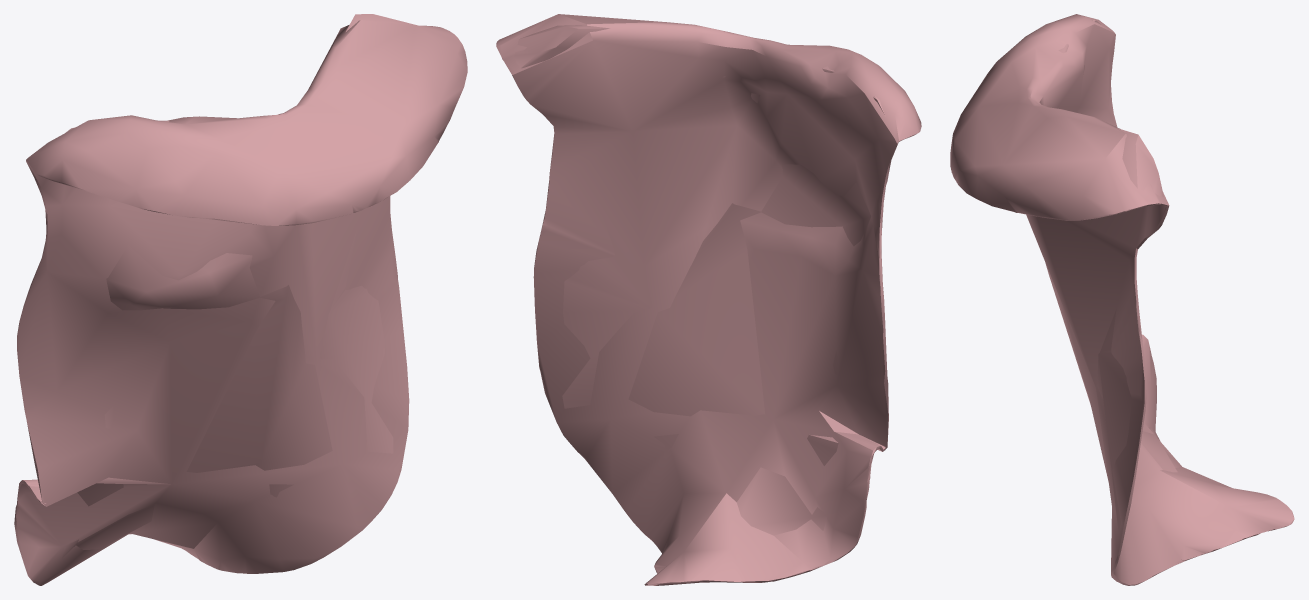
The model's file is fma14647_fj3398.glb.
3 renders of one model, left to right at view 1: azimuth 30°, elevation 25°; view 2: azimuth 150°, elevation 25°; view 3: azimuth 270°, elevation 25°, orthographic. The views are drawn at different scales.
Visible parts, largest first — view 1: FMA14647_FJ3398; view 2: FMA14647_FJ3398; view 3: FMA14647_FJ3398.
Part boxes in pixels (left/top/right/bottom): FMA14647_FJ3398: left=14, top=14, right=467, bottom=585; FMA14647_FJ3398: left=496, top=14, right=921, bottom=585; FMA14647_FJ3398: left=950, top=14, right=1294, bottom=585.
Bounding box in the file's own units: 0.173 × 0.2027 × 0.1312.
